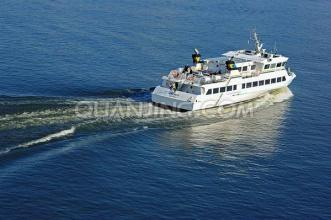otherboat: (154, 36, 293, 113)
